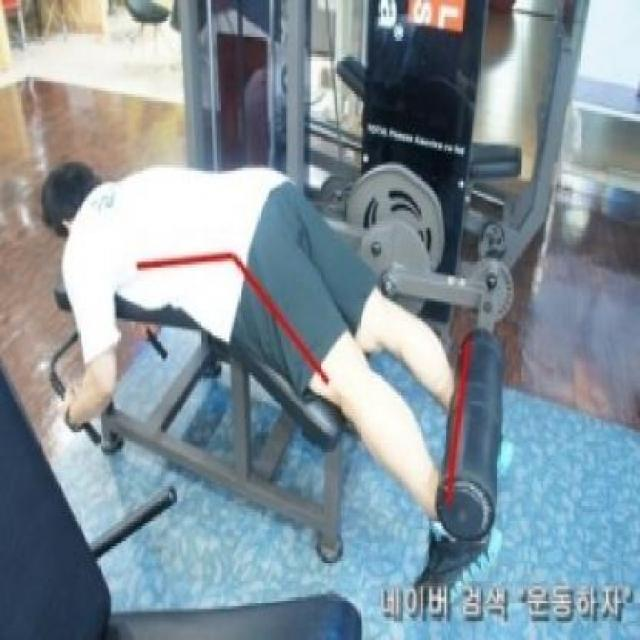reg curl machine: (35, 0, 527, 572)
